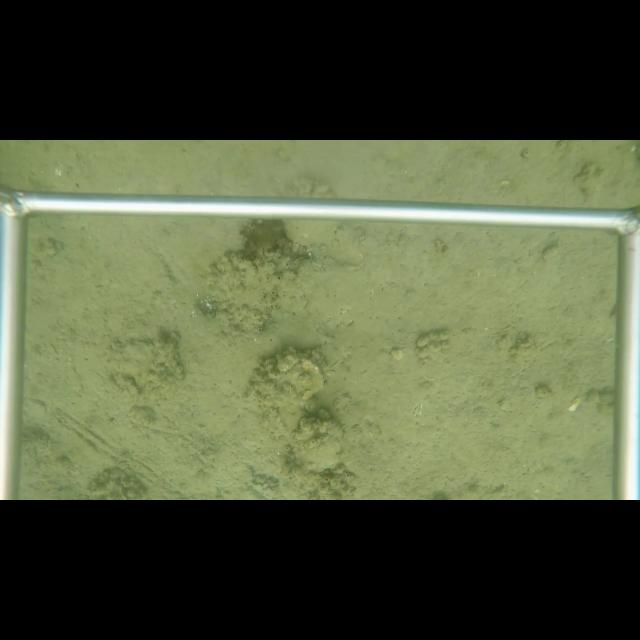Oyster-Closed: (292, 416, 343, 474), (273, 355, 330, 401)
